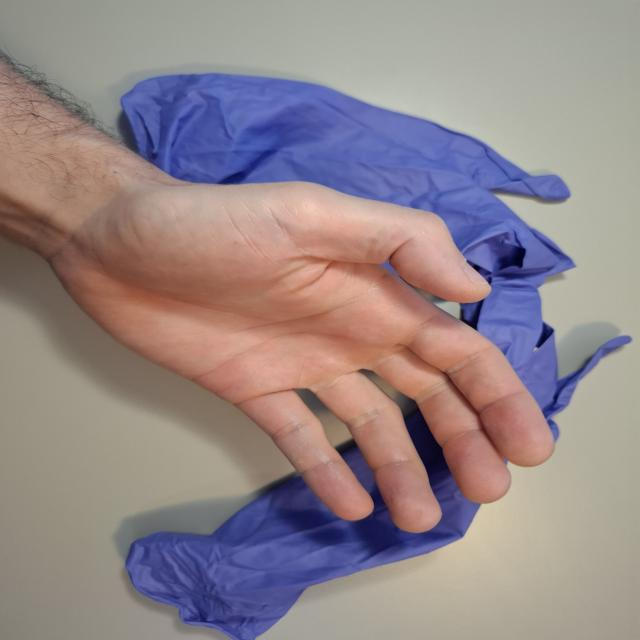glove_off: (37, 174, 561, 536)
